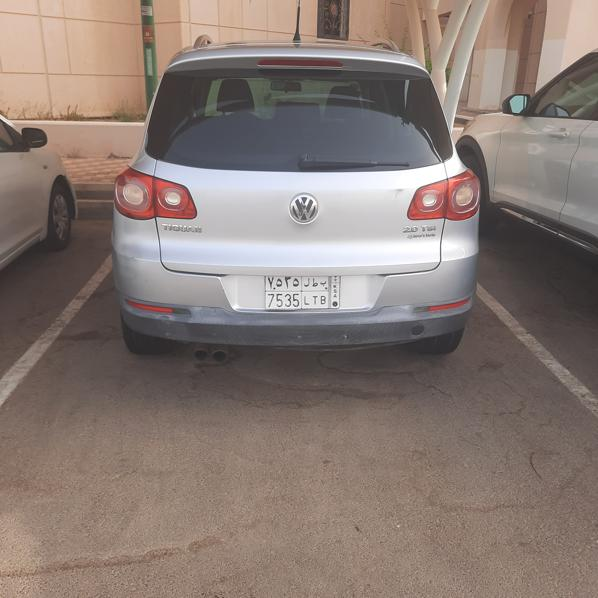numberplate: (265, 273, 342, 309)
